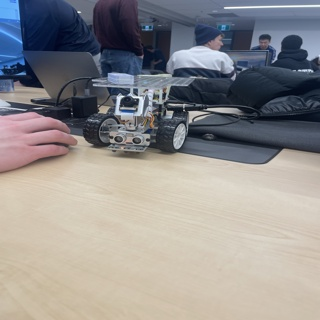vehicle: (83, 72, 194, 152)
